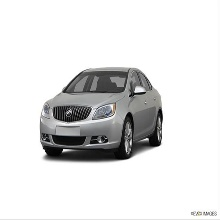no damage: (40, 66, 163, 159)
